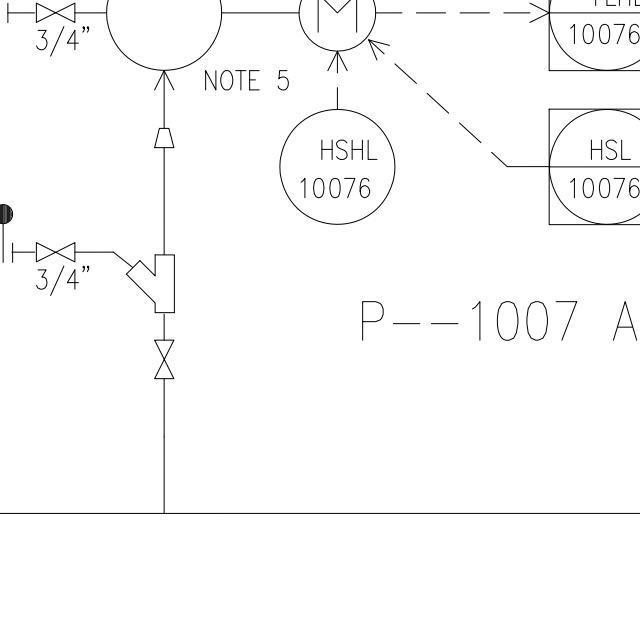GV: (27, 0, 83, 26), (30, 240, 78, 265), (152, 335, 175, 385)
SP: (151, 122, 180, 152)
